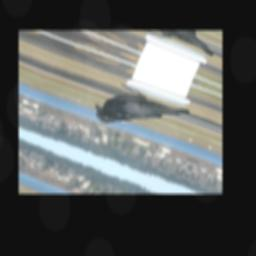Crow: (89, 77, 192, 150)
